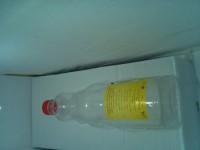bottle: (42, 73, 178, 133)
